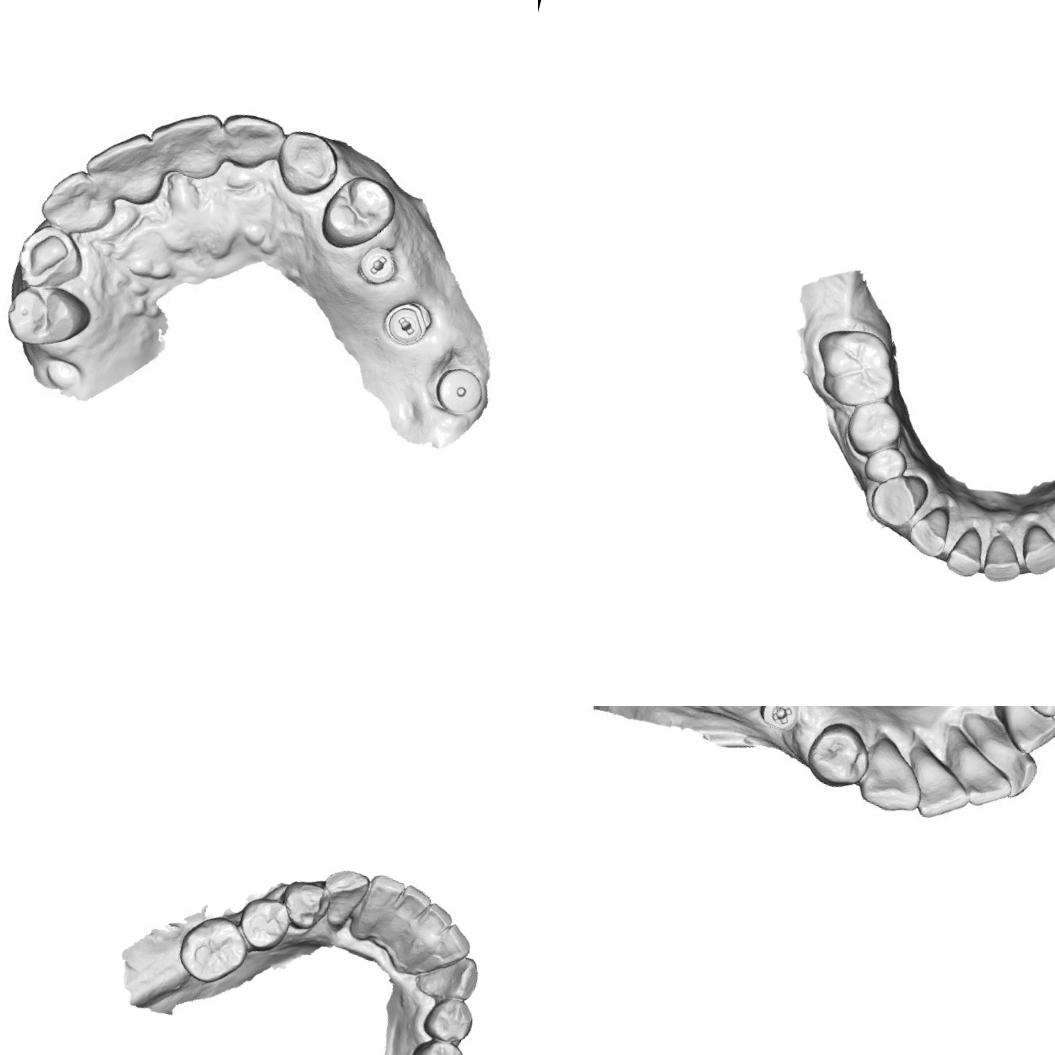canine: (850, 728, 932, 819), (264, 122, 344, 206), (11, 220, 92, 293), (862, 464, 933, 535), (412, 945, 484, 1006), (313, 862, 371, 933)
implant: (426, 352, 488, 424)
implant_minus: (376, 288, 441, 361), (356, 242, 404, 294)
implant_plus: (744, 706, 813, 747)
incisor: (954, 714, 1046, 803), (899, 736, 979, 825), (84, 126, 167, 204), (145, 101, 226, 179), (39, 165, 122, 237), (938, 740, 1018, 814), (214, 110, 284, 176), (985, 706, 1055, 755), (902, 499, 956, 560), (974, 532, 1030, 589), (941, 521, 991, 582), (358, 870, 407, 930), (430, 918, 478, 970), (1015, 522, 1055, 582), (390, 881, 434, 934), (414, 898, 456, 946)
molar: (802, 319, 905, 417), (172, 906, 256, 992)
premolar: (322, 171, 402, 254), (5, 274, 90, 351), (802, 714, 876, 795), (839, 392, 907, 462), (232, 891, 295, 956), (274, 875, 334, 935), (418, 992, 478, 1048), (858, 439, 912, 490), (405, 1032, 471, 1055)
